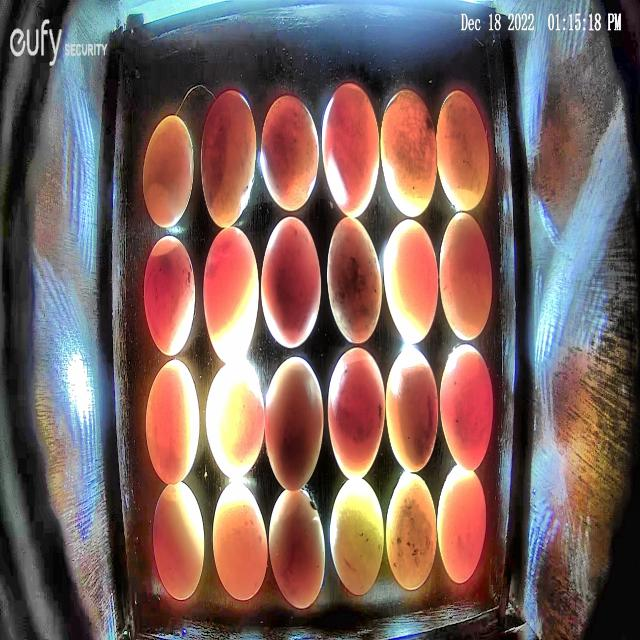DE: (264, 356, 324, 494), (261, 216, 321, 350), (322, 82, 380, 219), (327, 346, 386, 480), (200, 89, 256, 228), (203, 227, 258, 364), (380, 90, 438, 217), (326, 217, 382, 344), (205, 360, 265, 478), (383, 218, 439, 344), (260, 95, 320, 212), (145, 357, 200, 484), (439, 343, 493, 472), (268, 489, 326, 609), (386, 346, 439, 474), (440, 211, 492, 341), (212, 483, 268, 602), (328, 479, 384, 597), (144, 234, 196, 357), (437, 90, 489, 212), (153, 481, 205, 600), (386, 473, 437, 589), (142, 114, 194, 227), (438, 465, 487, 584)
